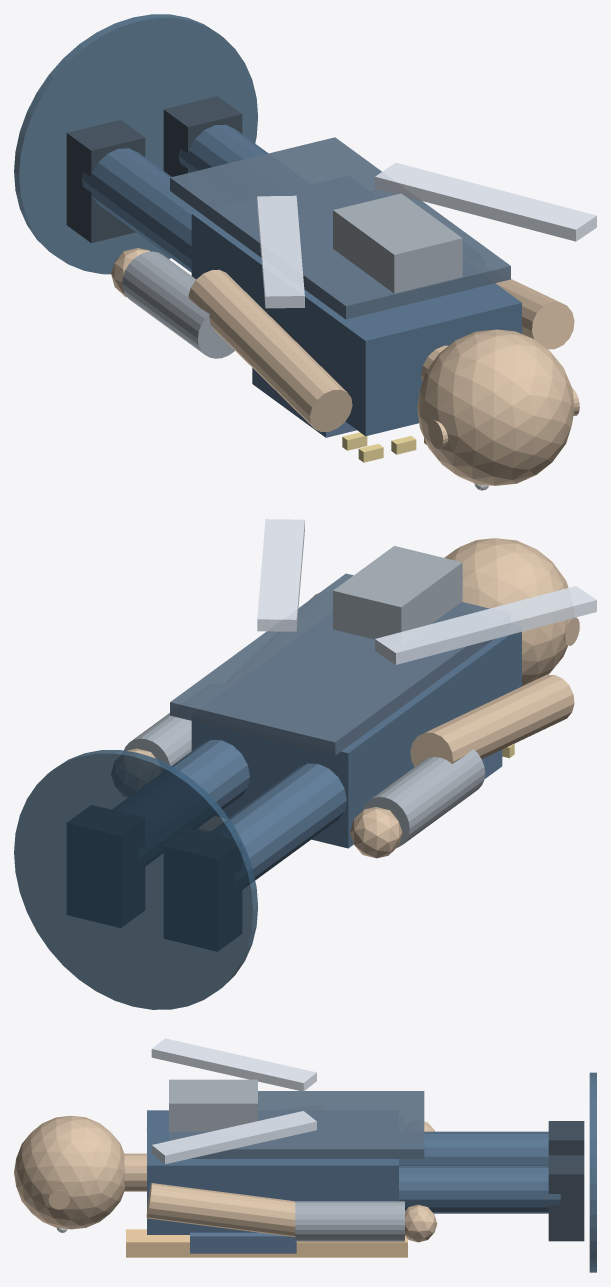
Rendered from SW_NPC_036_kora_sparkline.glb.
3 renders of one model, top to bottom at view 1: azimuth 30°, elevation 25°; view 2: azimuth 150°, elevation 25°; view 3: azimuth 270°, elevation 25°, orthographic. The views are drawn at different scales.
Parts seen in each view (by area): view 1: round_base_plate, torso_uniform, storm_cloak, head, left_upper_arm, wingpack_core, left_leg, right_wing_rig, left_forearm_gauntlet, left_boot, left_wing_rig, right_boot (+4 smaller); view 2: round_base_plate, storm_cloak, torso_uniform, wingpack_core, head, left_leg, left_upper_arm, left_wing_rig, left_forearm_gauntlet, right_wing_rig, right_leg, right_forearm_gauntlet (+1 smaller); view 3: torso_uniform, storm_cloak, head, right_leg, right_upper_arm, left_leg, right_forearm_gauntlet, wingpack_core, rank_sash, right_wing_rig, left_wing_rig, right_boot (+6 smaller).
Boxes of the visible parts, x1,y1,x2,y2 form: round_base_plate: [14, 14, 257, 274]; torso_uniform: [191, 212, 521, 436]; storm_cloak: [170, 137, 510, 319]; head: [417, 329, 574, 485]; left_upper_arm: [188, 269, 352, 432]; wingpack_core: [333, 193, 462, 293]; left_leg: [81, 148, 198, 272]; right_wing_rig: [375, 162, 596, 241]; left_forearm_gauntlet: [122, 251, 234, 358]; left_boot: [66, 120, 145, 242]; left_wing_rig: [257, 195, 304, 308]; right_boot: [163, 96, 242, 176]; round_base_plate: [14, 750, 257, 1009]; storm_cloak: [170, 573, 494, 755]; torso_uniform: [191, 631, 521, 848]; wingpack_core: [333, 546, 462, 639]; head: [444, 538, 568, 686]; left_leg: [229, 763, 346, 879]; left_upper_arm: [410, 674, 574, 766]; left_wing_rig: [375, 586, 596, 664]; left_forearm_gauntlet: [362, 749, 485, 847]; right_wing_rig: [257, 519, 304, 631]; right_leg: [171, 740, 249, 809]; right_forearm_gauntlet: [124, 713, 191, 765]; torso_uniform: [147, 1110, 398, 1234]; storm_cloak: [169, 1091, 424, 1158]; head: [14, 1115, 124, 1229]; right_leg: [399, 1166, 560, 1213]; right_upper_arm: [146, 1183, 295, 1237]; left_leg: [399, 1131, 548, 1165]; right_forearm_gauntlet: [295, 1201, 404, 1241]; wingpack_core: [169, 1079, 257, 1131]; rank_sash: [126, 1229, 407, 1257]; right_wing_rig: [151, 1111, 316, 1164]; left_wing_rig: [151, 1038, 316, 1091]; right_boot: [548, 1155, 584, 1241].
Bounding box in the file's own units: 1.05 × 0.756 × 2.2.
